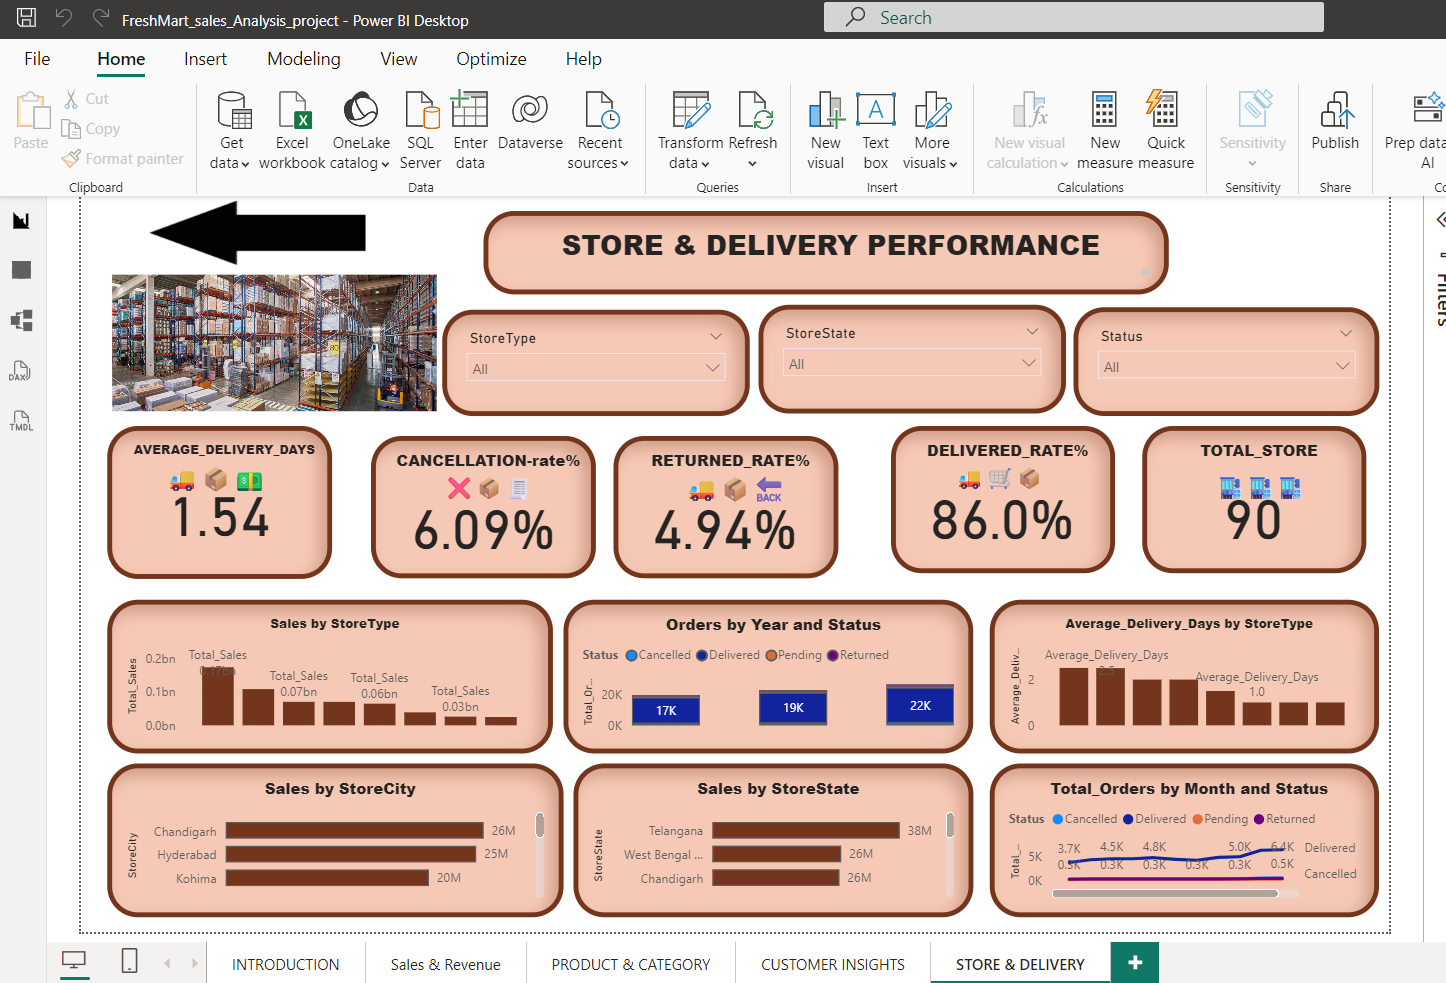

The dashboard page shown, as its layout file describes it:
{"tool":"powerbi","page":{"name":"STORE & DELIVERY","canvas":[1280,720],"ordinal":4},"visuals":[{"type":"textbox","box":[0,0,1280,64],"z":0},{"type":"image","box":[16,6,92,54],"z":1000},{"type":"textbox","box":[119.4,3.6,498.3,56.7],"z":2000},{"type":"actionButton","box":[640,14,120,36],"z":3000},{"type":"actionButton","box":[766,14,120,36],"z":4000},{"type":"actionButton","box":[892,14,120,36],"z":5000},{"type":"actionButton","box":[1018,14,120,36],"z":6000},{"type":"actionButton","box":[1144,14,120,36],"z":7000},{"type":"slicer","title":"STORE TYPE","fields":{"Values":["FreshMart_Sales_Analysis.StoreType"]},"box":[15.7,76,406.6,84.5],"z":8000},{"type":"slicer","title":"STORE STATE","fields":{"Values":["FreshMart_Sales_Analysis.StoreState"]},"box":[436.7,76,406.6,84.5],"z":9000},{"type":"slicer","title":"STATUS","fields":{"Values":["FreshMart_Sales_Analysis.Status"]},"box":[857.8,76,406.6,74.8],"z":10000},{"type":"cardVisual","title":"🚚 AVERAGE DELIVERY DAYS","fields":{"Data":["FreshMart_Sales_Analysis.Average_Delivery_Days"]},"box":[15.7,170.1,240.1,92.9],"z":11000},{"type":"cardVisual","title":"❌ CANCELLATION RATE %","fields":{"Data":["FreshMart_Sales_Analysis.Cancellation_Rate%"]},"box":[267.8,170.1,240.1,92.9],"z":12000},{"type":"cardVisual","title":"↩️ RETURNED RATE %","fields":{"Data":["FreshMart_Sales_Analysis.Returned_Rate%"]},"box":[520,168.9,240.1,92.9],"z":13000},{"type":"cardVisual","title":"✅ DELIVERED RATE %","fields":{"Data":["FreshMart_Sales_Analysis.Delivered_Rate%"]},"box":[772.1,168.9,240.1,92.9],"z":14000},{"type":"cardVisual","title":"🏬 TOTAL STORE","fields":{"Data":["FreshMart_Sales_Analysis.Total_stores"]},"box":[1024.3,168.9,240.1,92.9],"z":15000},{"type":"clusteredColumnChart","title":"Sales by StoreType","fields":{"Category":["FreshMart_Sales_Analysis.StoreType"],"Y":["FreshMart_Sales_Analysis.Total_Sales"]},"box":[15.7,278.7,407.8,213.5],"z":16000},{"type":"columnChart","title":"Orders by Year and Status","fields":{"Y":["FreshMart_Sales_Analysis.Total_Orders"],"Category":["FreshMart_Sales_Analysis.Year"],"Series":["FreshMart_Sales_Analysis.Status"]},"box":[435.5,278.7,409,213.5],"z":17000},{"type":"clusteredColumnChart","title":"Average Delivery Days by Store Type","fields":{"Category":["FreshMart_Sales_Analysis.StoreType"],"Y":["FreshMart_Sales_Analysis.Average_Delivery_Days"]},"box":[856.6,278.7,407.8,205.1],"z":18000},{"type":"clusteredBarChart","title":"Sales by StoreCity","fields":{"Y":["FreshMart_Sales_Analysis.Total_Sales"],"Category":["FreshMart_Sales_Analysis.StoreCity"]},"box":[15.7,509.1,407.8,201.5],"z":19000},{"type":"clusteredBarChart","title":"Sales by StoreState","fields":{"Y":["FreshMart_Sales_Analysis.Total_Sales"],"Category":["FreshMart_Sales_Analysis.StoreState"]},"box":[435.5,509.1,409,201.5],"z":20000},{"type":"lineChart","title":"Monthly Orders by Status","fields":{"Y":["FreshMart_Sales_Analysis.Total_Orders"],"Category":["FreshMart_Sales_Analysis.OrderDate.Variation.Date Hierarchy.Month"],"Series":["FreshMart_Sales_Analysis.Status"]},"box":[856.6,509.1,407.8,201.5],"z":21000}]}

Visuals, with their boxes on the page's 1280x720 design canvas (x1, y1, x2, y2). These are canvas units, not pixel positions in the 1446x983 screenshot, which may show the page scaled, cropped or inside an application window:
textbox: <box>0,0,1280,64</box>
image: <box>16,6,108,60</box>
textbox: <box>119,4,618,60</box>
actionButton: <box>640,14,760,50</box>
actionButton: <box>766,14,886,50</box>
actionButton: <box>892,14,1012,50</box>
actionButton: <box>1018,14,1138,50</box>
actionButton: <box>1144,14,1264,50</box>
"STORE TYPE" slicer: <box>16,76,422,160</box>
"STORE STATE" slicer: <box>437,76,843,160</box>
"STATUS" slicer: <box>858,76,1264,151</box>
"🚚 AVERAGE DELIVERY DAYS" cardVisual: <box>16,170,256,263</box>
"❌ CANCELLATION RATE %" cardVisual: <box>268,170,508,263</box>
"↩️ RETURNED RATE %" cardVisual: <box>520,169,760,262</box>
"✅ DELIVERED RATE %" cardVisual: <box>772,169,1012,262</box>
"🏬 TOTAL STORE" cardVisual: <box>1024,169,1264,262</box>
"Sales by StoreType" clusteredColumnChart: <box>16,279,424,492</box>
"Orders by Year and Status" columnChart: <box>436,279,844,492</box>
"Average Delivery Days by Store Type" clusteredColumnChart: <box>857,279,1264,484</box>
"Sales by StoreCity" clusteredBarChart: <box>16,509,424,711</box>
"Sales by StoreState" clusteredBarChart: <box>436,509,844,711</box>
"Monthly Orders by Status" lineChart: <box>857,509,1264,711</box>
